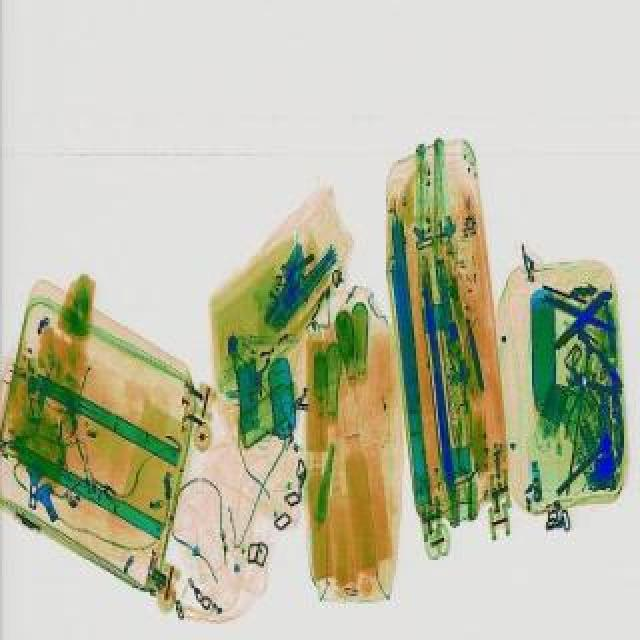scissors: (564, 366, 614, 396)
